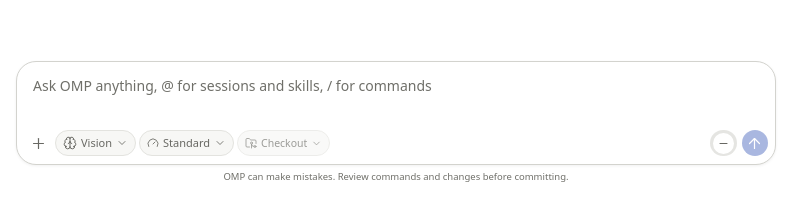
Scenario: Composer memoization › does not re-render when a streaming parent re-renders with identical props
Click the button with aria-label "Model".
click(96, 143)  # box [55, 130, 136, 156]
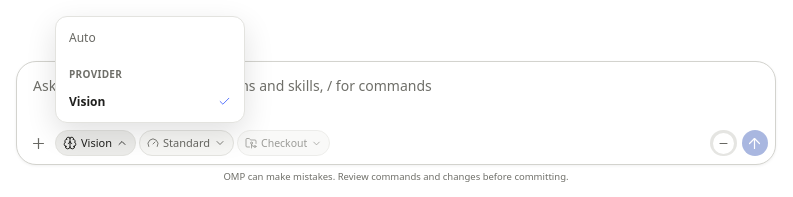
expect the number of elements with class "menu-select__group" is 2: met, box [61, 22, 239, 54]; [61, 58, 239, 117]
expect the number of menu items is 2: met, box [61, 22, 239, 54]; [61, 85, 239, 117]
